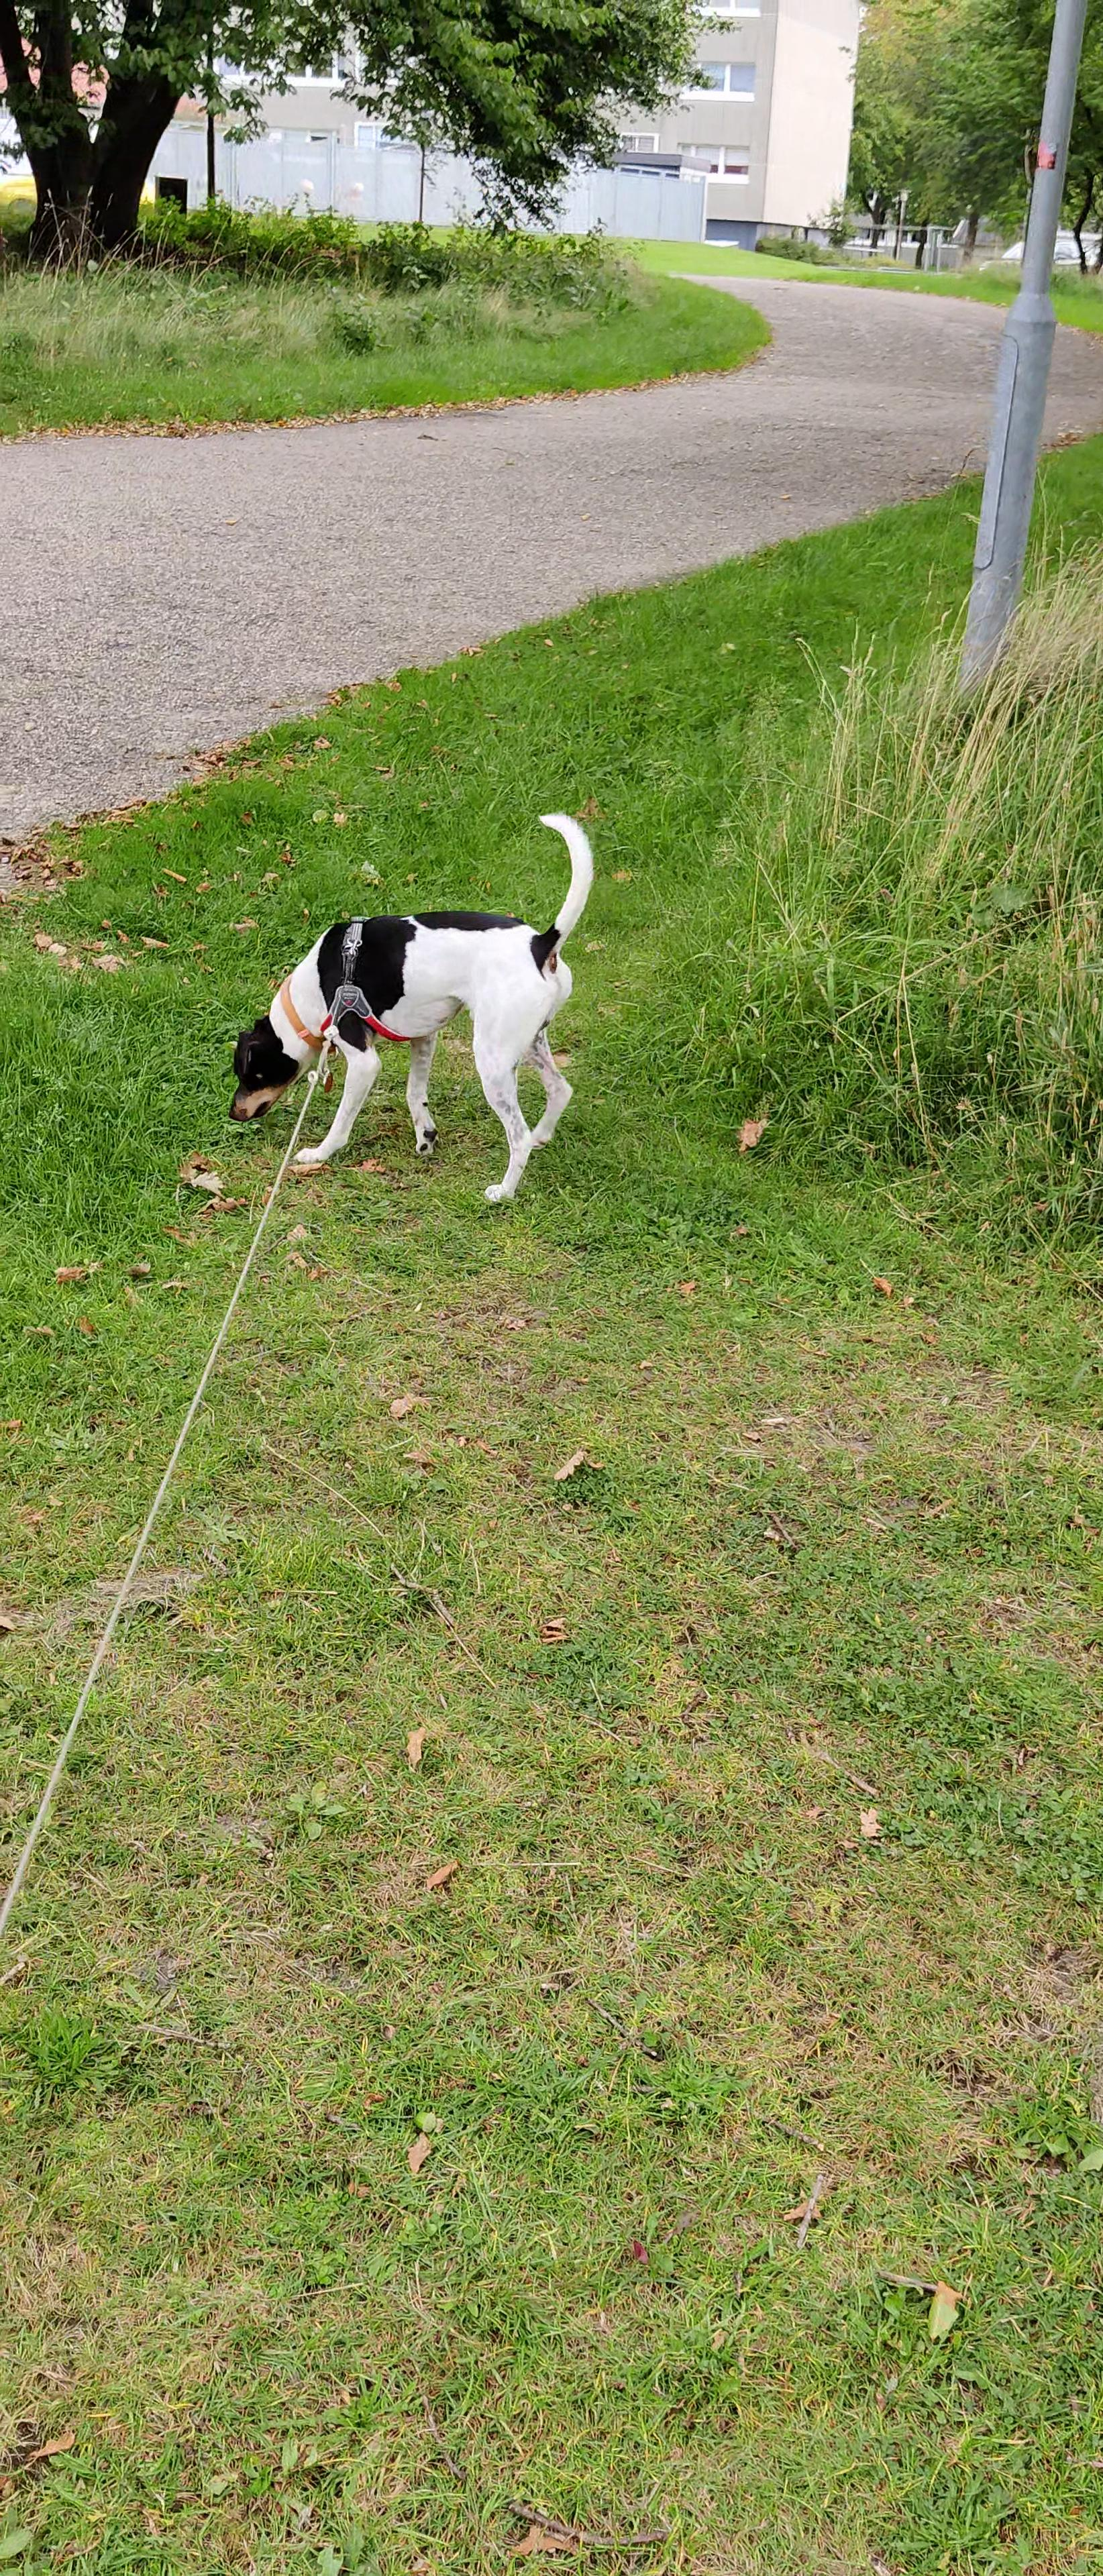Dog: (210, 797, 613, 1211)
